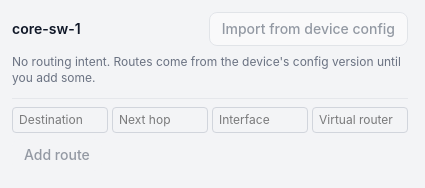
RoutingPanel › disables Add route until both destination and interface are filled
expect the button "Add route" is disabled: met, box [12, 139, 102, 171]
Step 1. Type "10.0.0.0/24" into the field named "New destination" → coordinates (60, 120), box [12, 107, 108, 133]
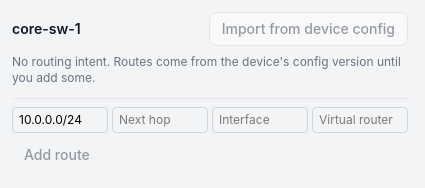
expect the button "Add route" is disabled: met, box [12, 139, 102, 171]
Step 2. Type "eth0" into the field named "New interface" → coordinates (260, 120), box [212, 107, 308, 133]
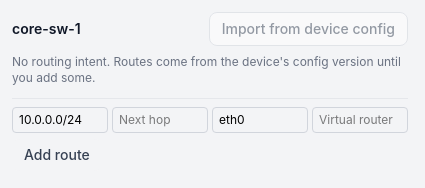
expect the button "Add route" is enabled: met, box [12, 139, 102, 171]
